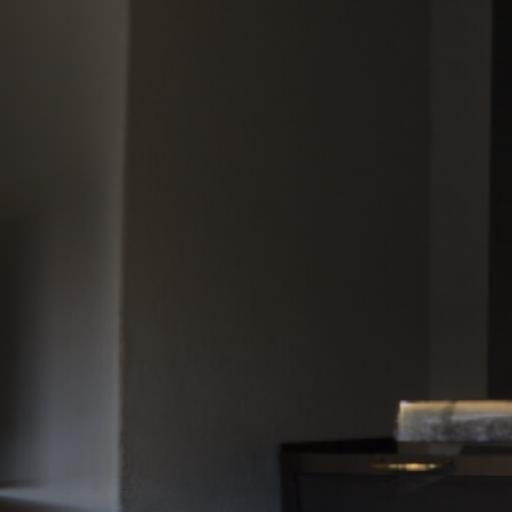nothing: (9, 9, 512, 512)
